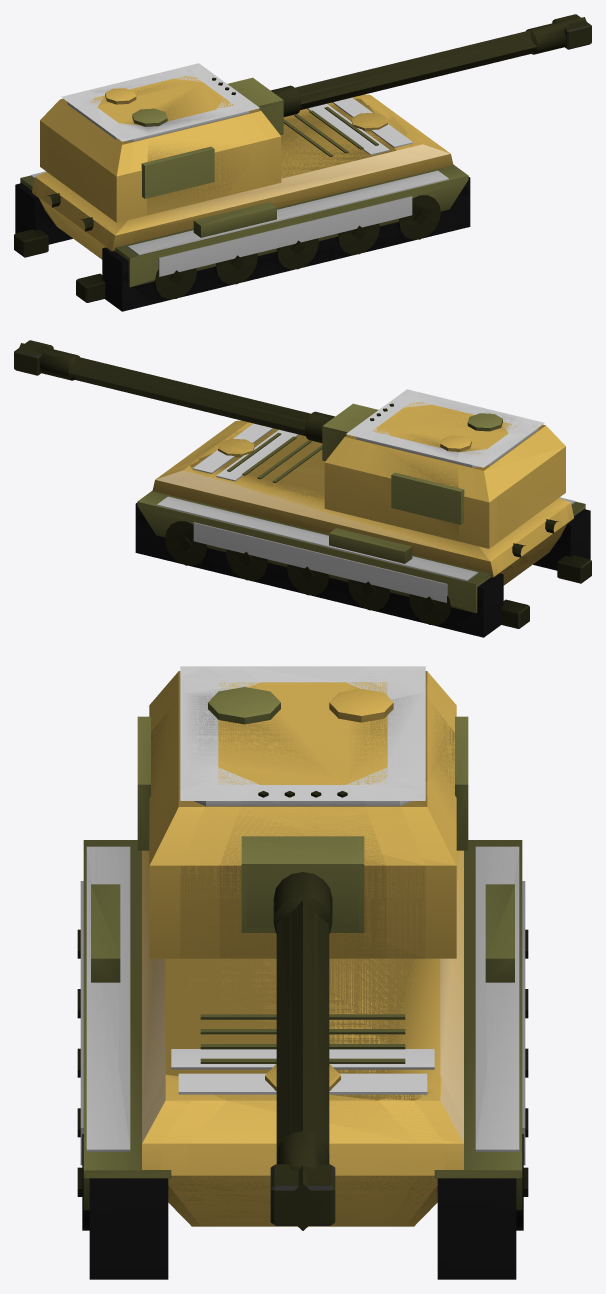
The model's file is meridian_siege_artillery.glb.
The picture shows the model from 3 angles, top to bottom: view 1: azimuth 30°, elevation 25°; view 2: azimuth 150°, elevation 25°; view 3: azimuth 270°, elevation 25°; orthographic projection. The views are drawn at different scales.
Parts seen in each view (by area): view 1: hull (×3), turret (×3), barrel (×2); view 2: hull (×3), turret (×3), barrel (×2); view 3: hull (×3), turret (×3), barrel (×2).
Part boxes in pixels (<box>): hull (×3): <box>14,94,470,311</box>; turret (×3): <box>40,63,283,222</box>; barrel (×2): <box>271,14,591,116</box>; hull (×3): <box>135,420,591,637</box>; turret (×3): <box>322,389,565,548</box>; barrel (×2): <box>14,340,334,442</box>; hull (×3): <box>77,840,528,1279</box>; turret (×3): <box>137,666,468,958</box>; barrel (×2): <box>270,872,335,1230</box>.
Bounding box in the file's own units: 8.45 × 2.29 × 3.08.
